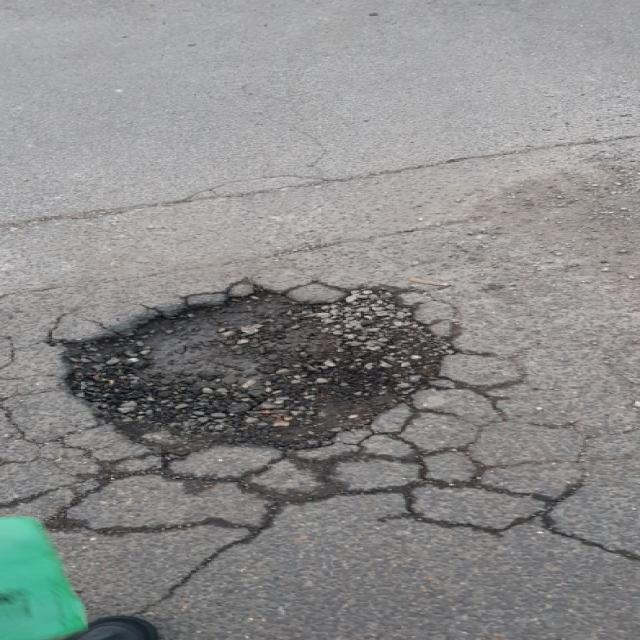Pothole: (43, 274, 473, 457)
